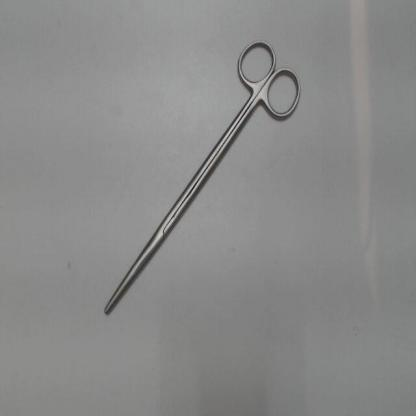9 Metzenbaum Scissors: (101, 36, 306, 318)
